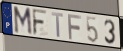3: (103, 19, 116, 46)
5: (85, 16, 100, 44)
F: (31, 8, 49, 37), (67, 13, 83, 41)
M: (13, 5, 33, 37)
T: (51, 12, 64, 39)
